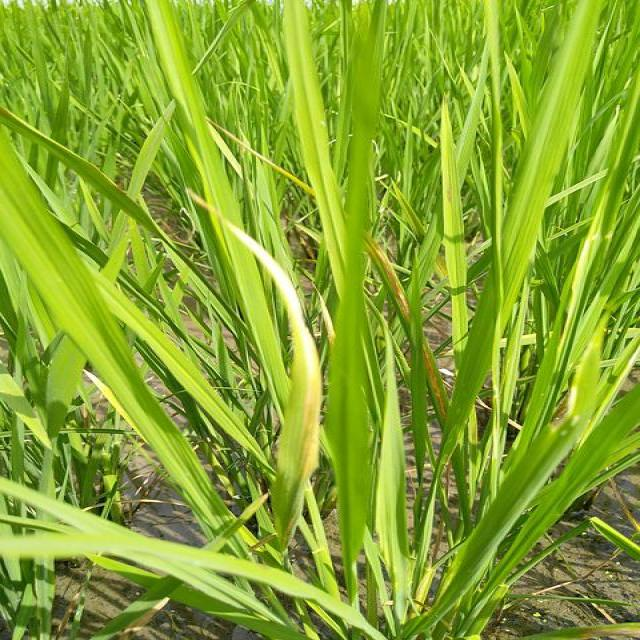Leaf Blight: (188, 191, 323, 548), (207, 117, 316, 196), (367, 243, 412, 333), (424, 339, 447, 419)
